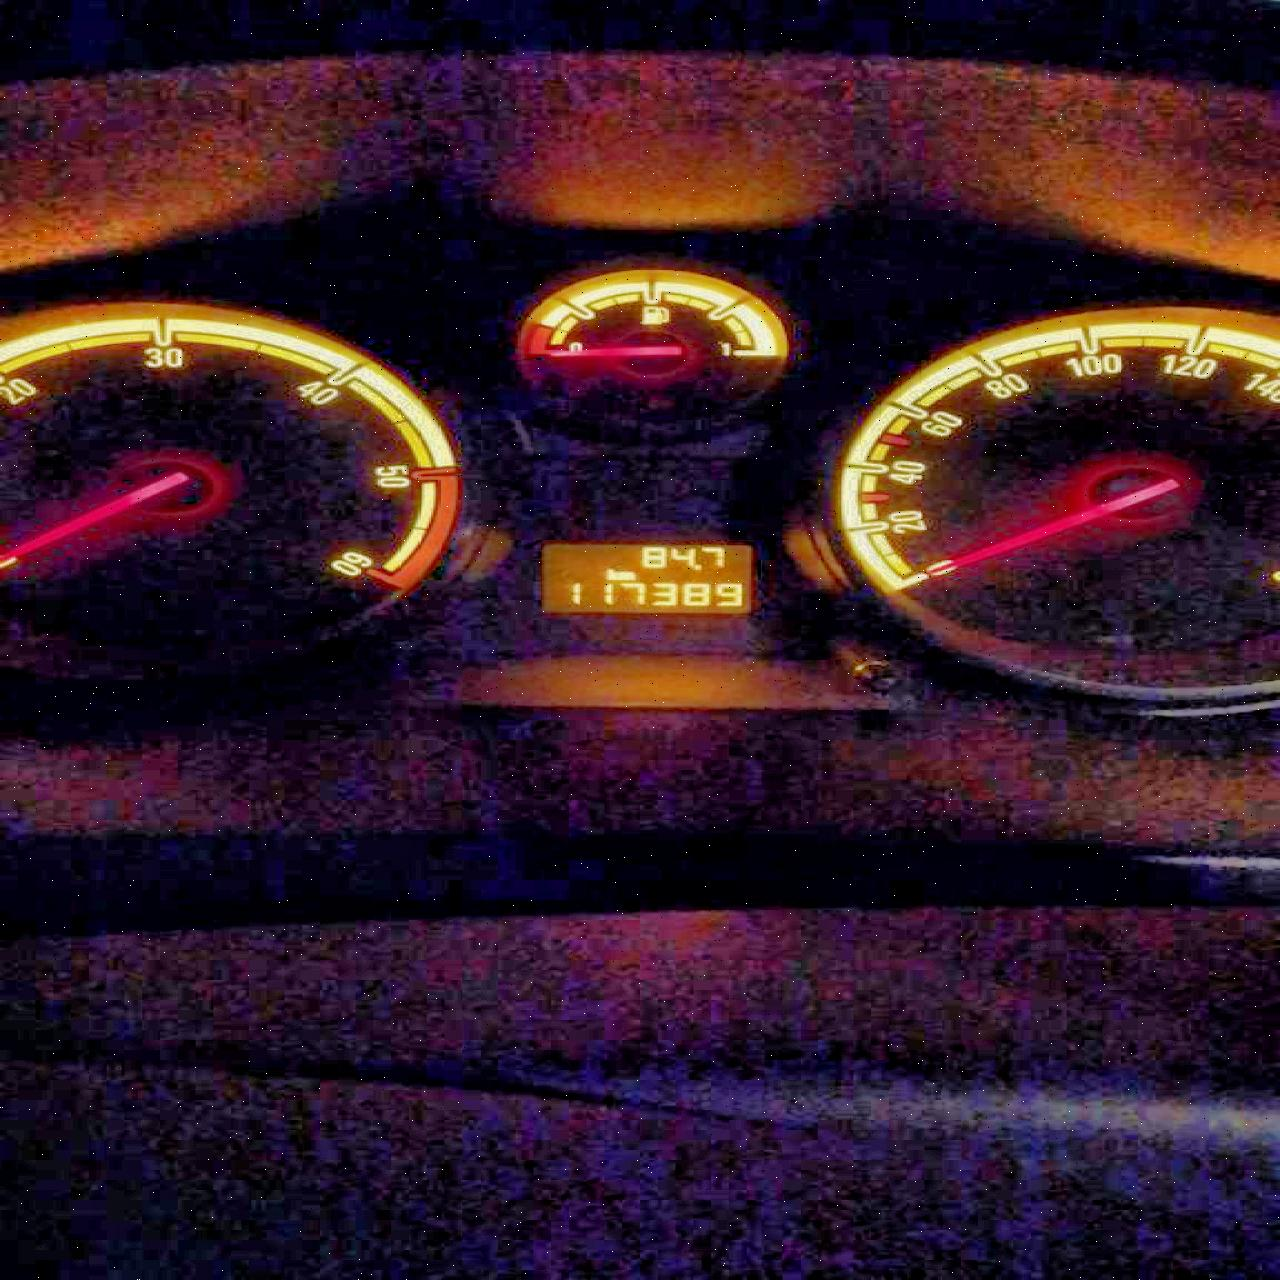-: (692, 563, 700, 570)
1: (568, 581, 580, 604), (600, 581, 611, 605)
3: (647, 581, 678, 605)
4: (669, 546, 695, 566)
7: (615, 581, 645, 604), (700, 546, 724, 567)
8: (680, 581, 709, 606), (638, 545, 667, 567)
X: (618, 570, 635, 580), (605, 567, 618, 580)
odometer: (538, 543, 756, 615)
